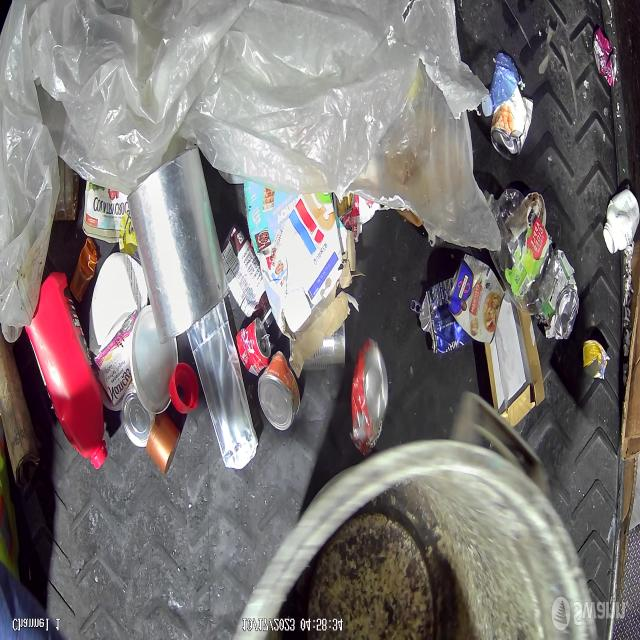can: (447, 250, 506, 347), (536, 245, 579, 343), (348, 342, 384, 459), (256, 350, 300, 432), (489, 83, 534, 162), (289, 321, 346, 374), (235, 316, 272, 376), (592, 27, 617, 89)
non_white_jug: (24, 270, 108, 469)
